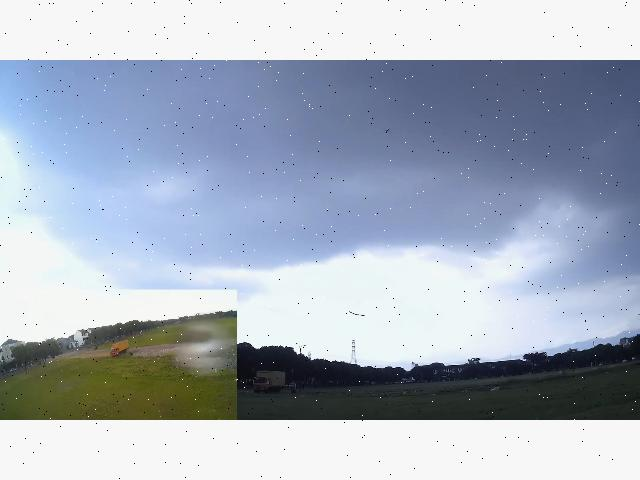Anti-Drone: (349, 312, 365, 316)
